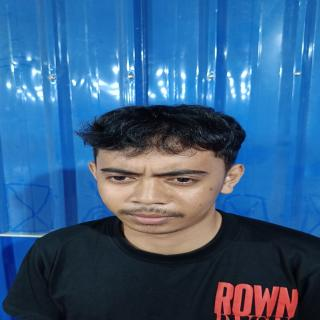Marah: (90, 125, 231, 237)
